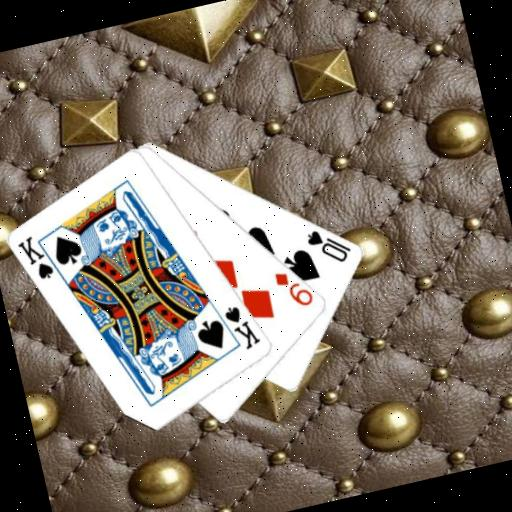10S: (302, 220, 356, 271)
9D: (271, 263, 317, 314)
KS: (13, 228, 64, 286), (220, 299, 264, 356)
